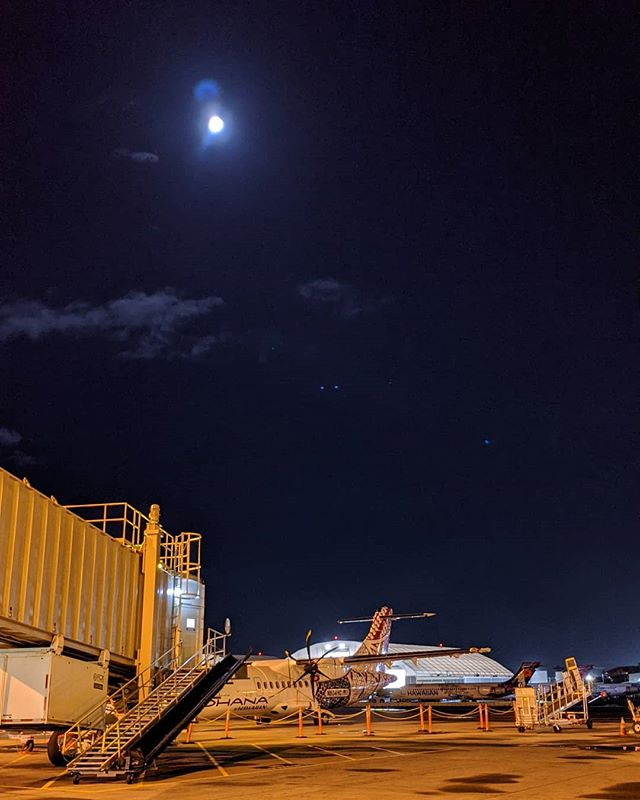plane: (176, 609, 432, 721)
sky: (29, 1, 640, 626)
